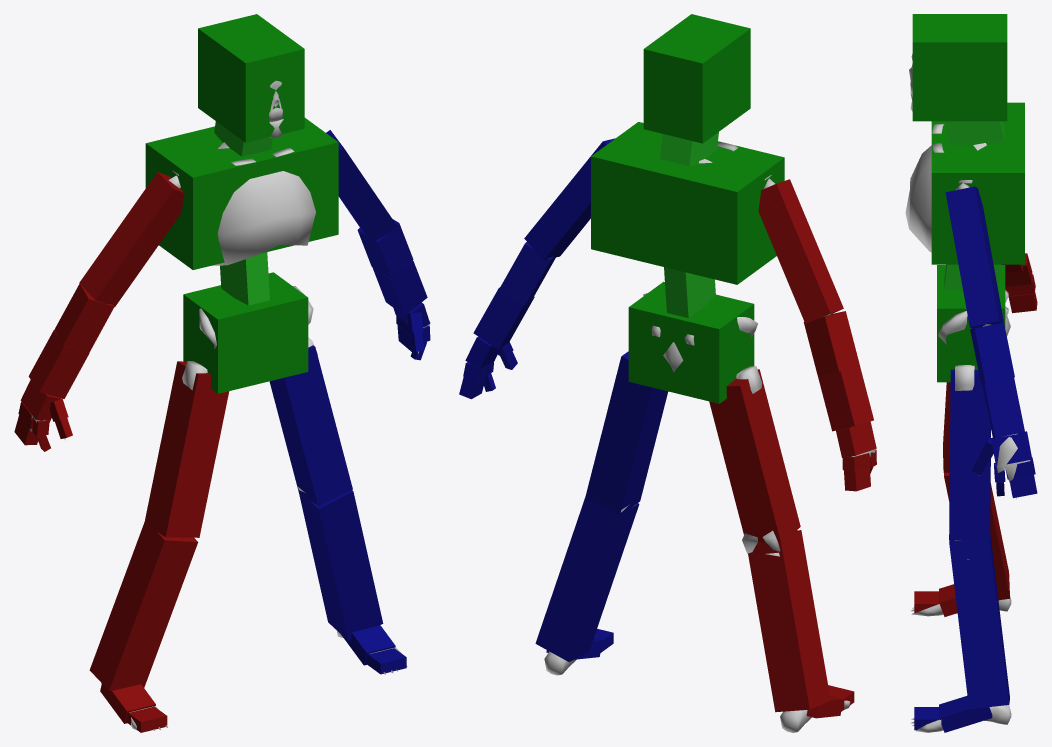
The model's file is Skelet.obj.
3 renders of one model, left to right at view 1: azimuth 30°, elevation 25°; view 2: azimuth 150°, elevation 25°; view 3: azimuth 270°, elevation 25°, orthographic.
Visible parts, largest first — view 1: CATRigHub005, CATRigHub006, CATRigHub004, CATRigRLeg2, CATRigRLeg1, CATRigLLeg2, CATRigLLeg1, ribs, CATRigRArm1, CATRigLArm1, CATRigRArm21, CATRigRArm22 (+9 smaller); view 2: CATRigHub005, CATRigHub006, CATRigHub004, CATRigRLeg2, CATRigRLeg1, CATRigLLeg2, CATRigLLeg1, CATRigRArm1, CATRigLArm1, CATRigRArm21, CATRigRArm22, CATRigLArm22 (+6 smaller); view 3: CATRigHub006, CATRigHub005, CATRigLLeg2, CATRigLLeg1, CATRigLArm1, CATRigHub004, ribs, CATRigLArm21, CATRigLArm22, CATRigSpine, CATRigRLeg2, CATRigLLegAnkle (+16 smaller).
Part boxes in pixels (x1,y1,x2,y2): CATRigHub005: (145,118,338,269); CATRigHub006: (198,14,304,142); CATRigHub004: (183,272,308,393); CATRigRLeg2: (89,520,198,690); CATRigRLeg1: (145,361,229,537); CATRigLLeg2: (298,490,383,641); CATRigLLeg1: (269,345,352,506); ribs: (211,142,315,265); CATRigRArm1: (79,172,184,306); CATRigLArm1: (326,130,397,243); CATRigRArm21: (54,283,114,352); CATRigRArm22: (28,330,89,398); CATRigHub005: (591,122,784,284); CATRigHub006: (643,14,750,143); CATRigHub004: (628,281,754,403); CATRigRLeg2: (748,530,830,712); CATRigRLeg1: (709,369,800,542); CATRigLLeg2: (535,498,639,662); CATRigLLeg1: (585,351,668,515); CATRigRArm1: (758,179,843,323); CATRigLArm1: (524,138,615,260); CATRigRArm21: (803,311,859,376); CATRigRArm22: (818,366,873,431); CATRigLArm22: (473,287,534,349); CATRigHub006: (912,14,1007,121); CATRigHub005: (931,102,1024,264); CATRigLLeg2: (949,532,1009,709); CATRigLLeg1: (949,369,990,540); CATRigLArm1: (945,186,1003,328); CATRigHub004: (937,265,1005,382); ribs: (905,143,986,252); CATRigLArm21: (970,322,1014,383); CATRigLArm22: (982,377,1024,438); CATRigSpine: (944,121,1004,144); CATRigRLeg2: (944,472,1009,600); CATRigLLegAnkle: (939,696,992,732).
Size of the model in its own units: 37.34 by 57.73 by 10.79.
